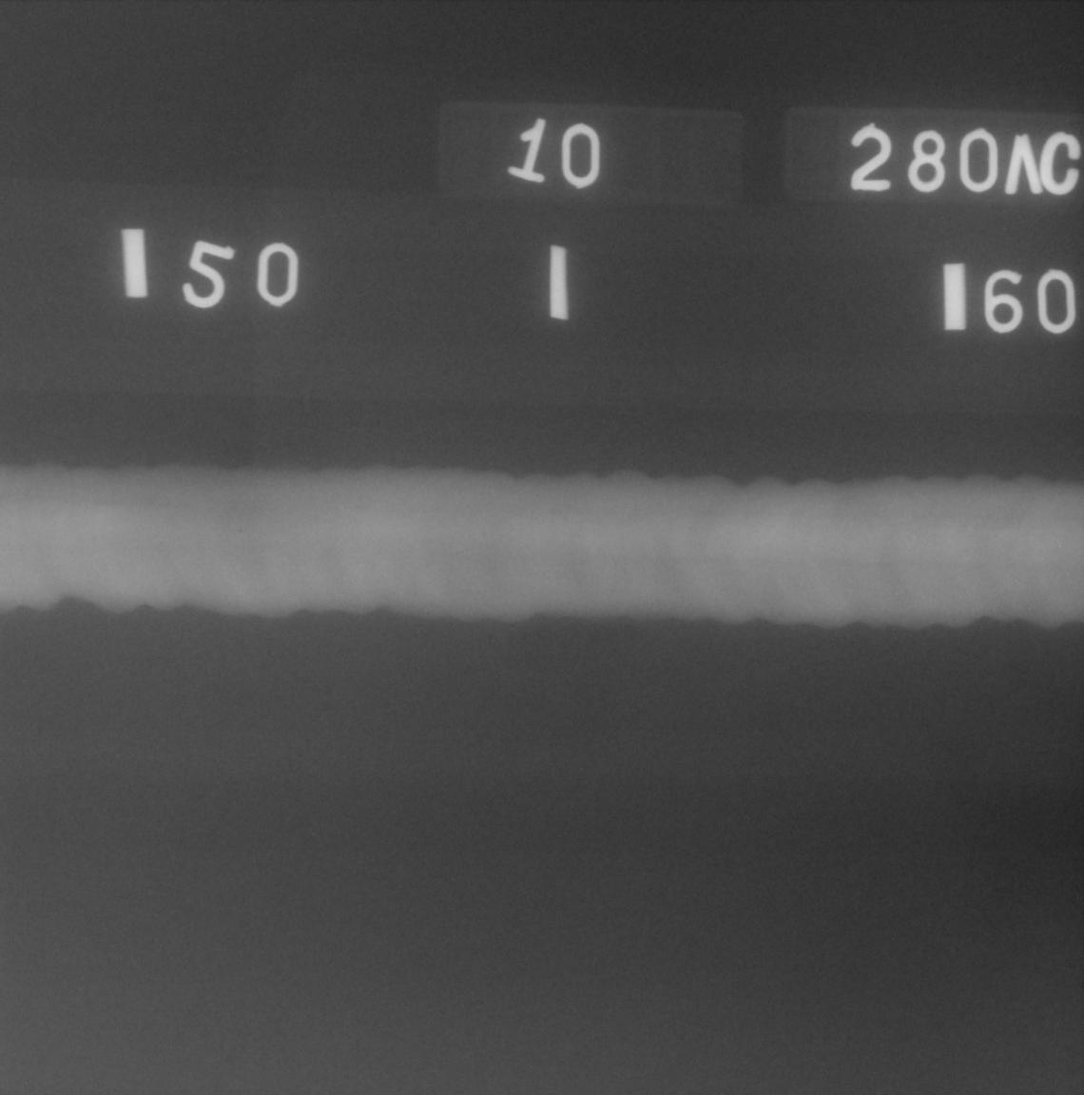Pore/Porosity: (237, 527, 244, 533)
